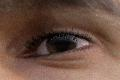eye: (47, 34, 76, 53)
